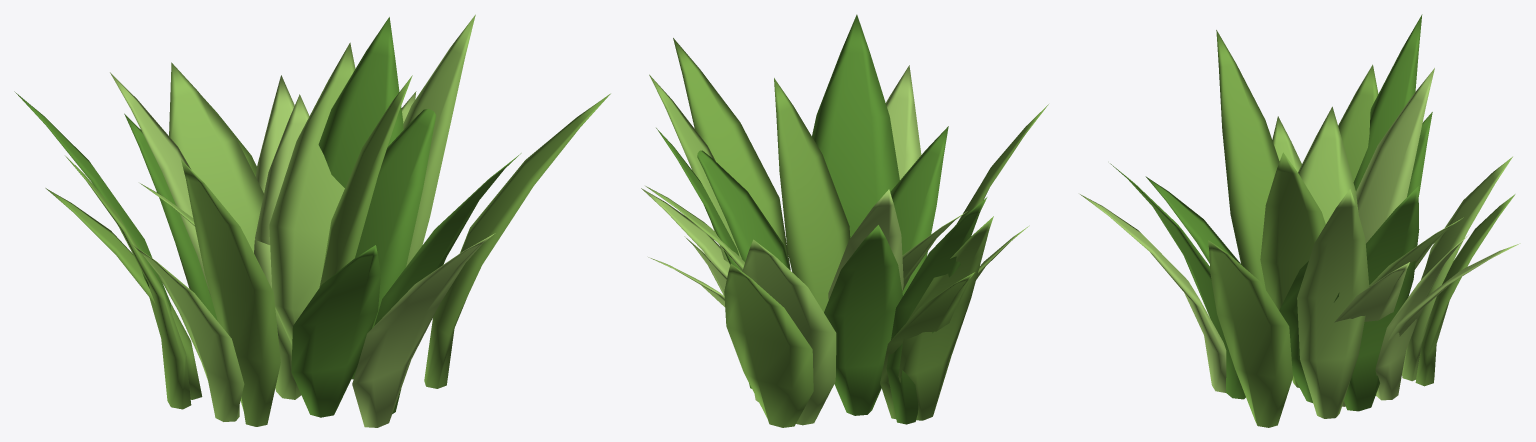
Rendered from foliage_grass_fluffy.glb.
3 renders of one model, left to right at view 1: azimuth 30°, elevation 25°; view 2: azimuth 150°, elevation 25°; view 3: azimuth 270°, elevation 25°, orthographic. The views are drawn at different scales.
Parts seen in each view (by area): view 1: foliage_grass_fluffy; view 2: foliage_grass_fluffy; view 3: foliage_grass_fluffy.
Boxes of the visible parts, box(x1,y1,x2,y2) form: foliage_grass_fluffy: box(14, 14, 610, 427); foliage_grass_fluffy: box(641, 14, 1048, 427); foliage_grass_fluffy: box(1080, 14, 1520, 427).
Size of the model in its own units: 0.8192 by 0.5174 by 0.7599.
